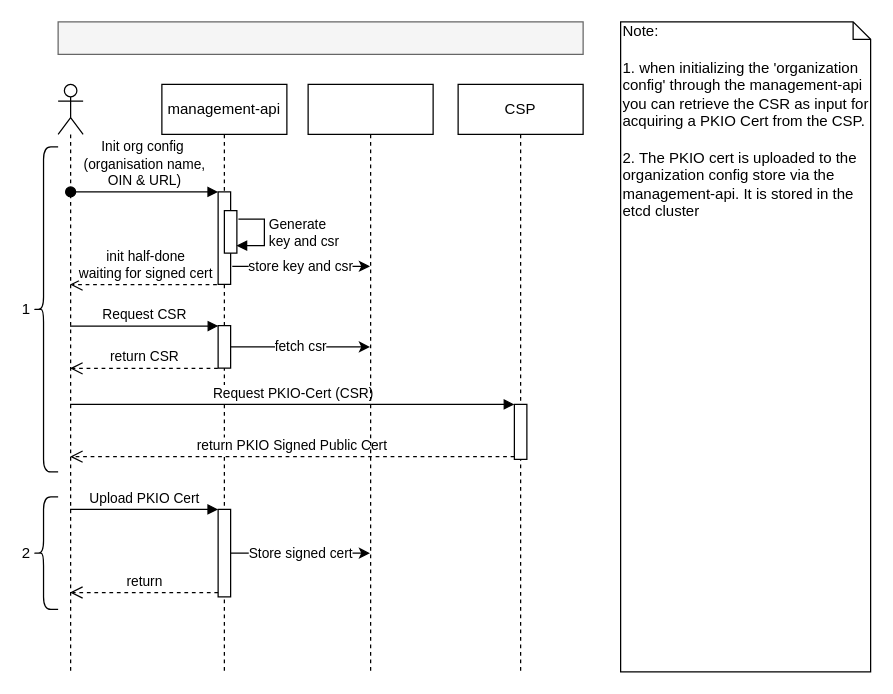
This 893x694 diagram has some shape labels left out. The box of each missing label's shape, as (x1, y1, x2, y2) in pixels:
config store (etcd): (307, 83, 433, 672)
organization management: config init: (57, 21, 583, 54)
